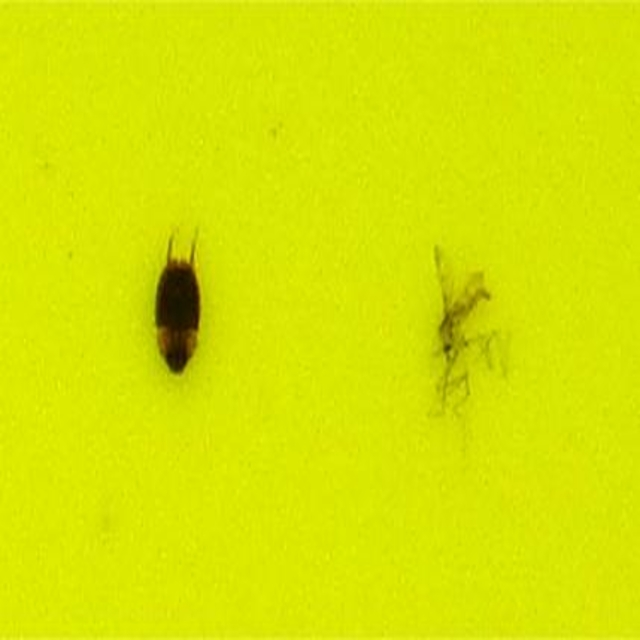Coleoptera: (149, 235, 206, 381)
Nematocera: (433, 271, 491, 405)
